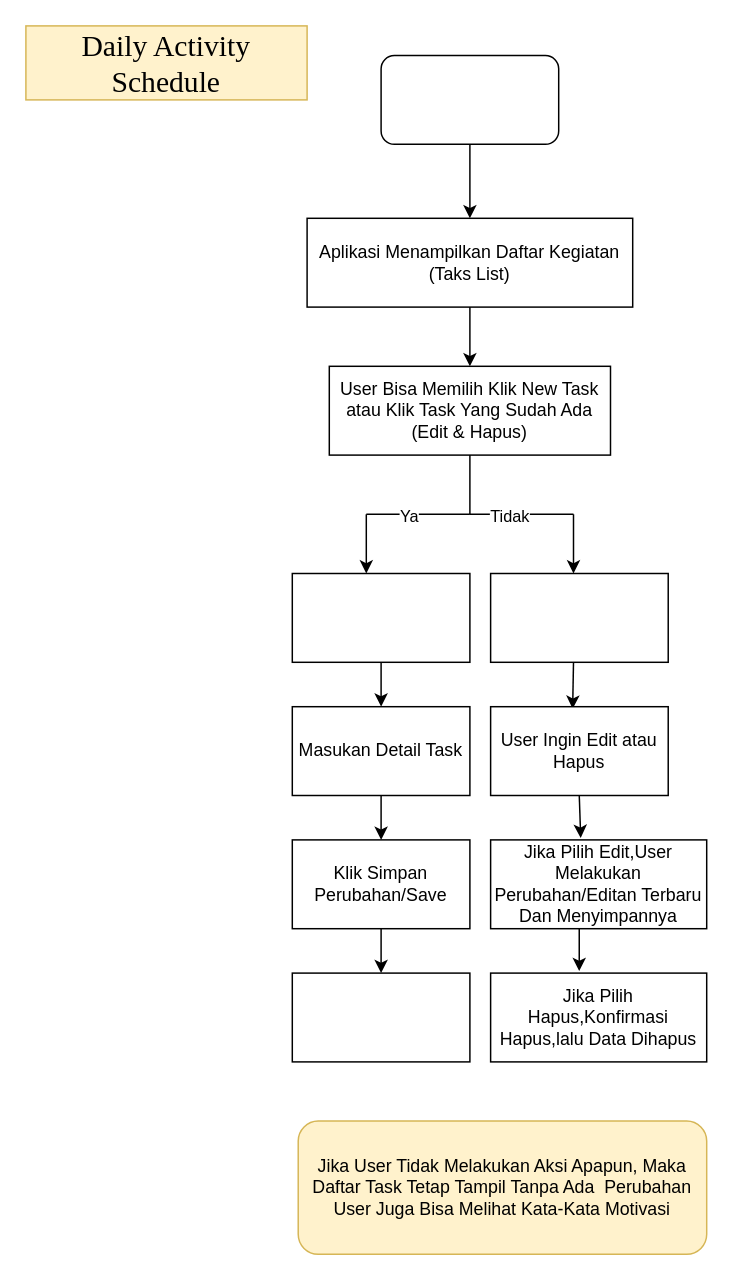
The diagram is 733 pixels wide and 1280 high, and some of its shapes have lost their labels. The centre of each missing label's shape, as x and y in pixels:
Klik Task Yang Sudah Ada: (x=578, y=617)
Task Tersimpan Dan Proses Selesai: (x=380, y=1017)
User: (x=469, y=99)
User Klik New Task: (x=380, y=617)
